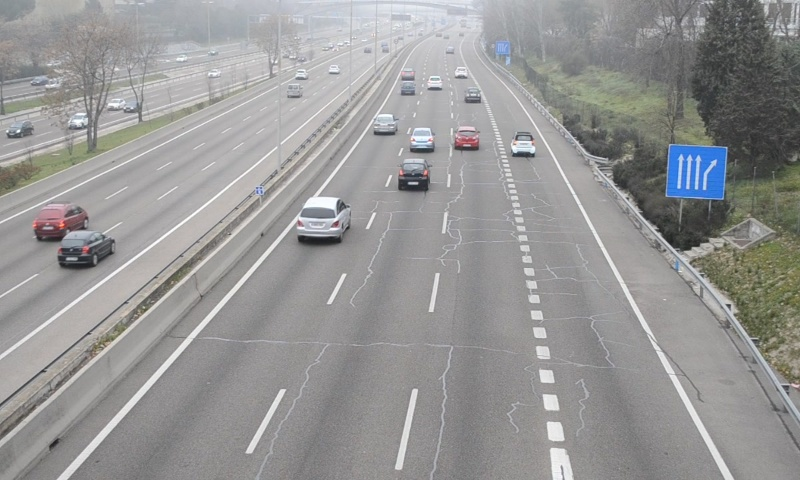car: (295, 196, 351, 239), (397, 158, 432, 192), (455, 125, 481, 151), (511, 131, 535, 158), (410, 127, 434, 152), (372, 114, 399, 136), (464, 87, 482, 104), (426, 74, 443, 90), (399, 81, 416, 96)
